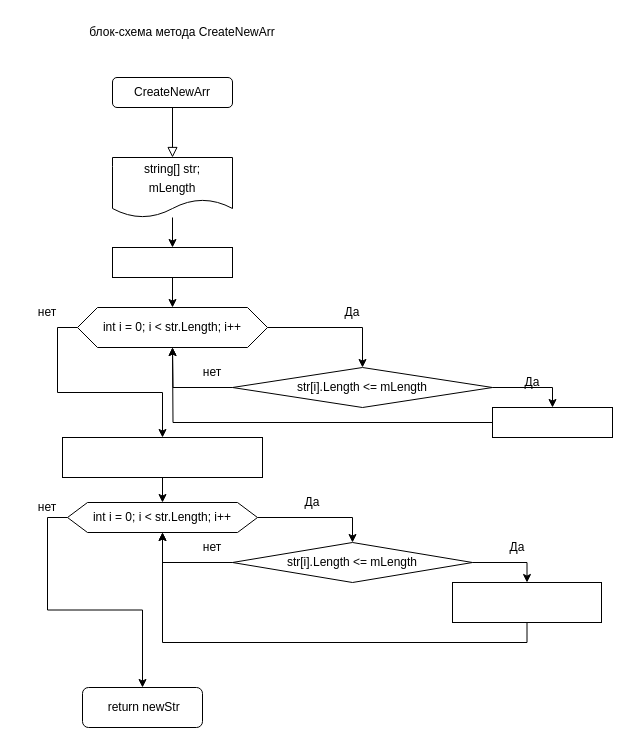
The diagram is 630 pixels wide and 745 high, and some of its shapes have lost their labels. Here are the shapes that lost their labels. From the top down, the box of each, then its label:
(112, 246, 232, 278): int count = 0
(492, 406, 612, 438): count++
(62, 436, 262, 478): string[] newStr = new string[count]; int j =0
(452, 582, 602, 622): newStr[j] = str[i] j++;
